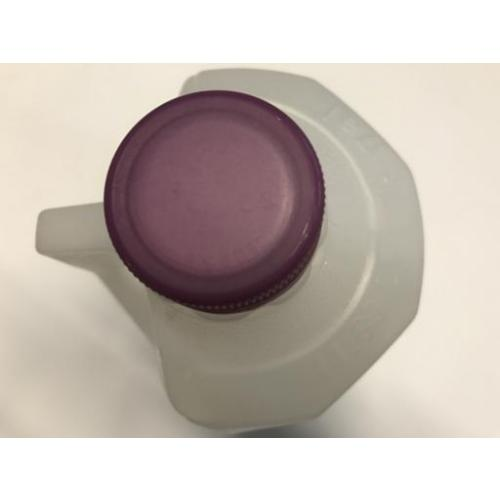plastic: (32, 70, 423, 422)
